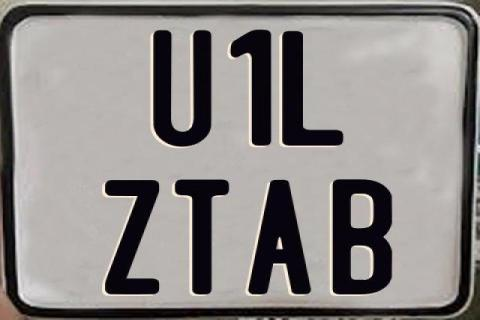0: (227, 28, 269, 146)
A: (245, 180, 309, 298)
B: (332, 178, 396, 294)
L: (280, 31, 345, 149)
T: (176, 178, 236, 296)
U: (150, 28, 209, 145)
Z: (103, 180, 159, 298)
